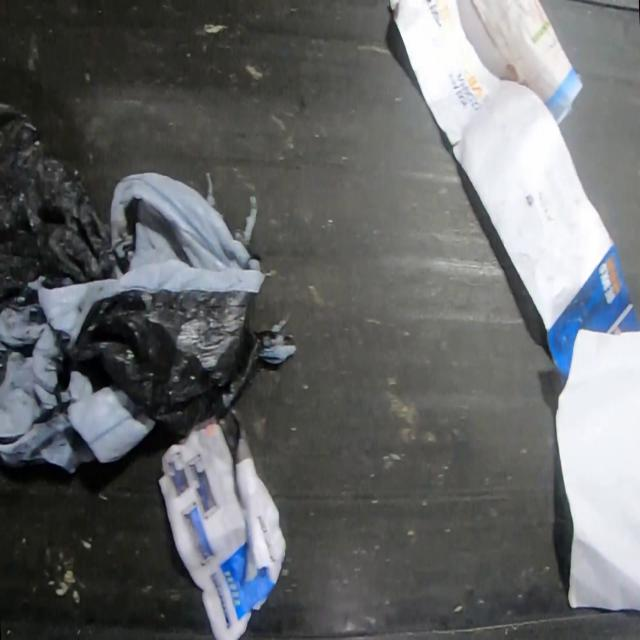soft_plastic: (0, 103, 298, 474)
